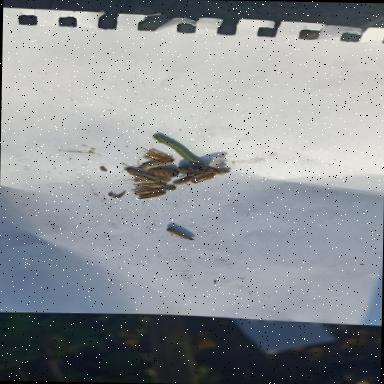pbw: (114, 167, 156, 181), (138, 158, 174, 172), (165, 226, 195, 242), (174, 172, 204, 188), (142, 150, 176, 164), (119, 179, 171, 187), (188, 172, 216, 186), (135, 191, 167, 201), (130, 188, 165, 196), (134, 182, 168, 190)
